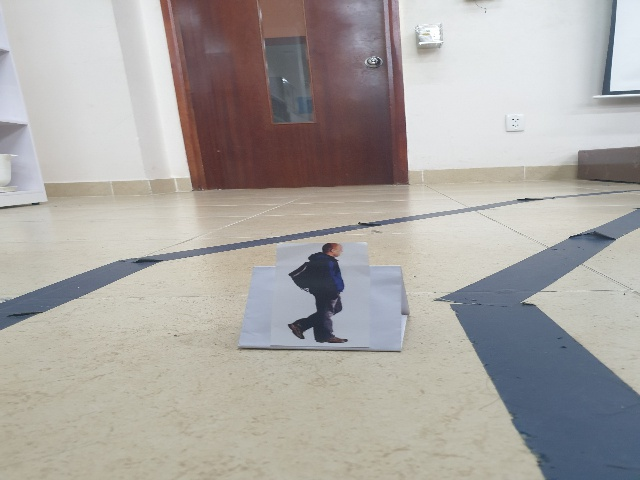Person: (283, 245, 358, 347)
